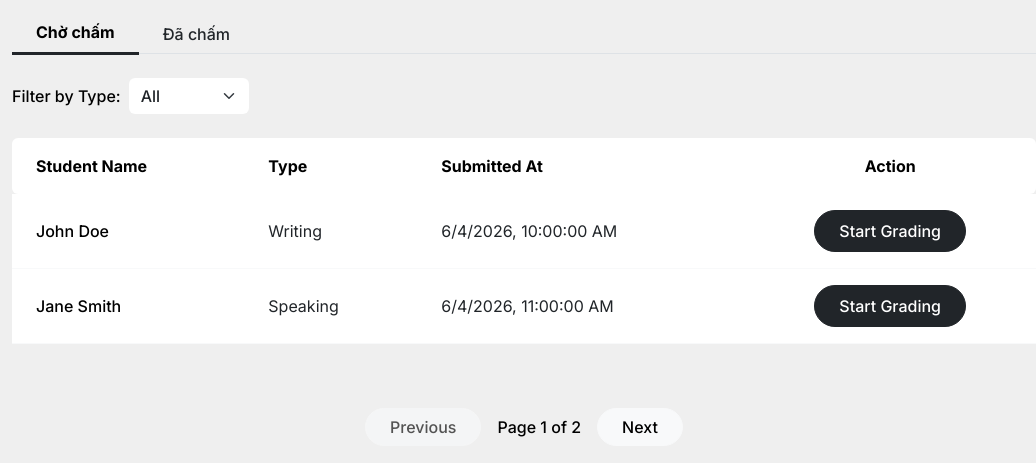
TutorQueue Component › should switch to History tab, fetch graded items, and hide claim button
Click the button with test id "tab-history". click: (196, 34)
box: [139,12,254,55]
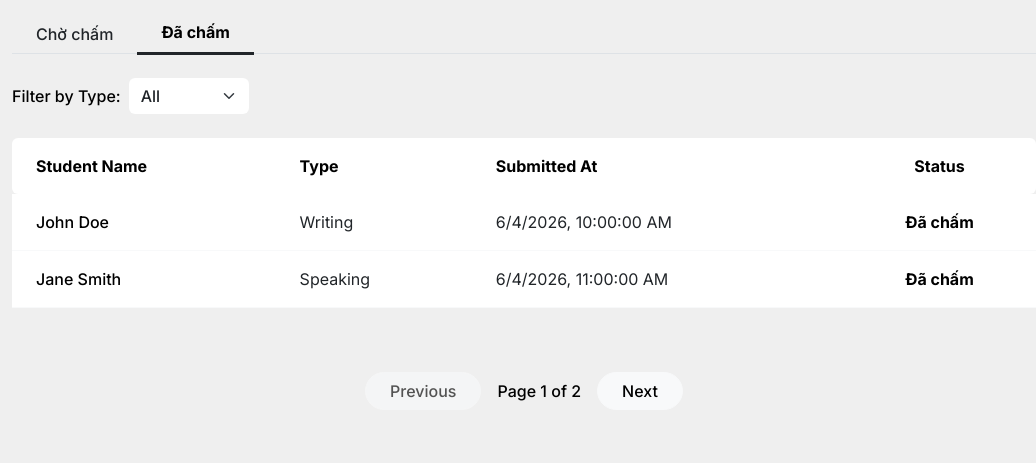
Expected: the button with test id "claim-btn-sub-1" is gone
Expected: the text with test id "status-sub-1" reads "Đã chấm", [905,212,974,232]
